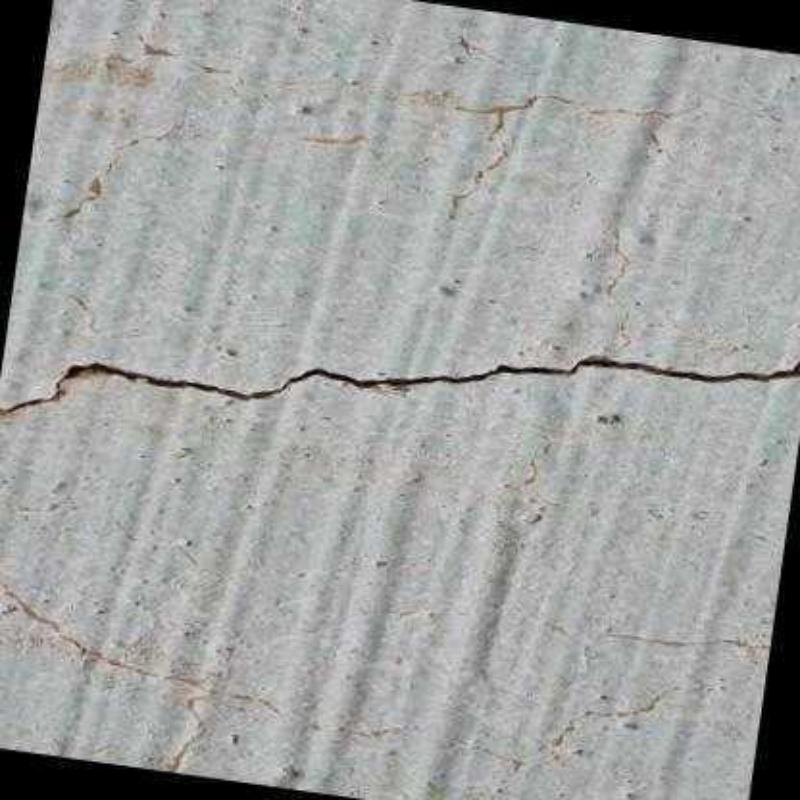pothole: (0, 348, 800, 421)
